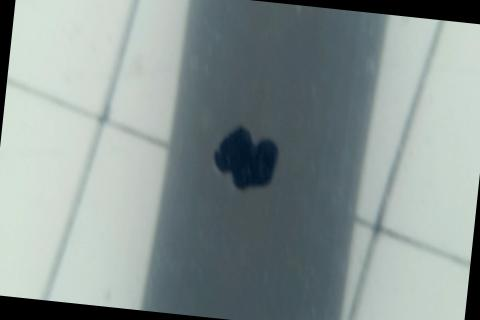kebocoran: (208, 120, 281, 197)
